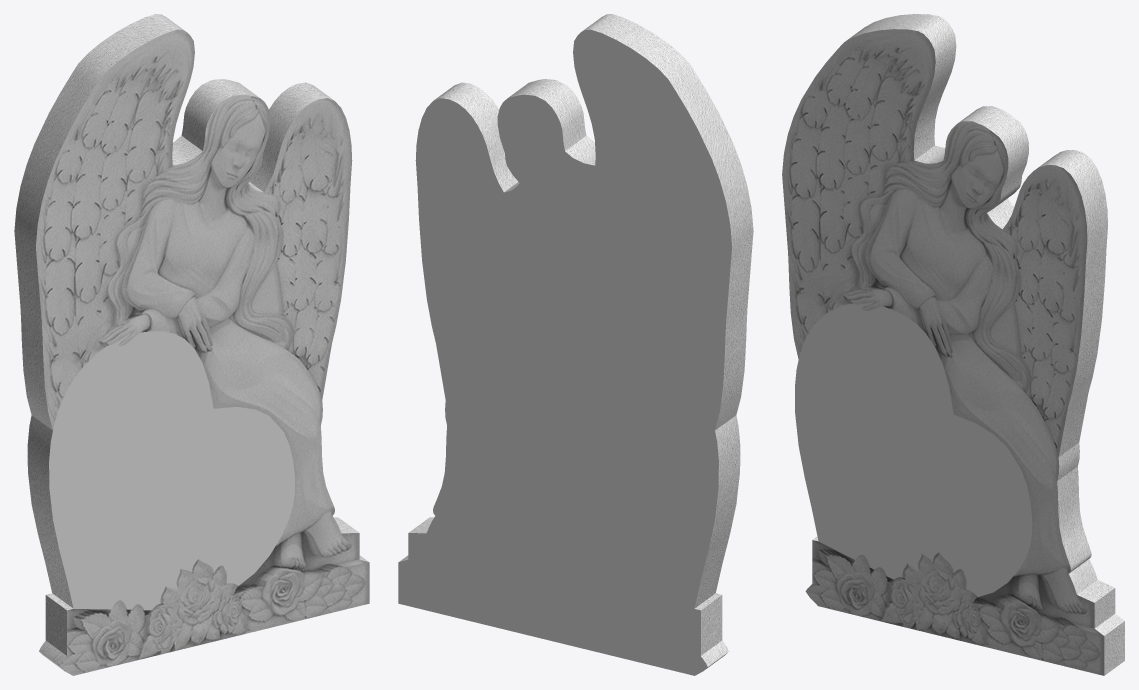
The model's file is cnd4c23422ac_tkf.glb.
The picture shows the model from 3 angles, left to right: view 1: azimuth 30°, elevation 25°; view 2: azimuth 150°, elevation 25°; view 3: azimuth 330°, elevation 25°; orthographic projection. The views are drawn at different scales.
Parts seen in each view (by area): view 1: Pam-d01-038_2_notexture, Pam-d01-038; view 2: Pam-d01-038, Pam-d01-038_2_notexture; view 3: Pam-d01-038_2_notexture, Pam-d01-038.
Boxes of the visible parts, box(x1,y1,x2,y2) form: Pam-d01-038_2_notexture: box(14, 14, 369, 675); Pam-d01-038: box(49, 331, 294, 610); Pam-d01-038: box(398, 29, 731, 675); Pam-d01-038_2_notexture: box(399, 14, 753, 669); Pam-d01-038_2_notexture: box(782, 14, 1124, 675); Pam-d01-038: box(795, 302, 1032, 596).
Bounding box in the file's own units: 0.45 × 0.8 × 0.05.
Materials: 1 (1 with a texture image).
